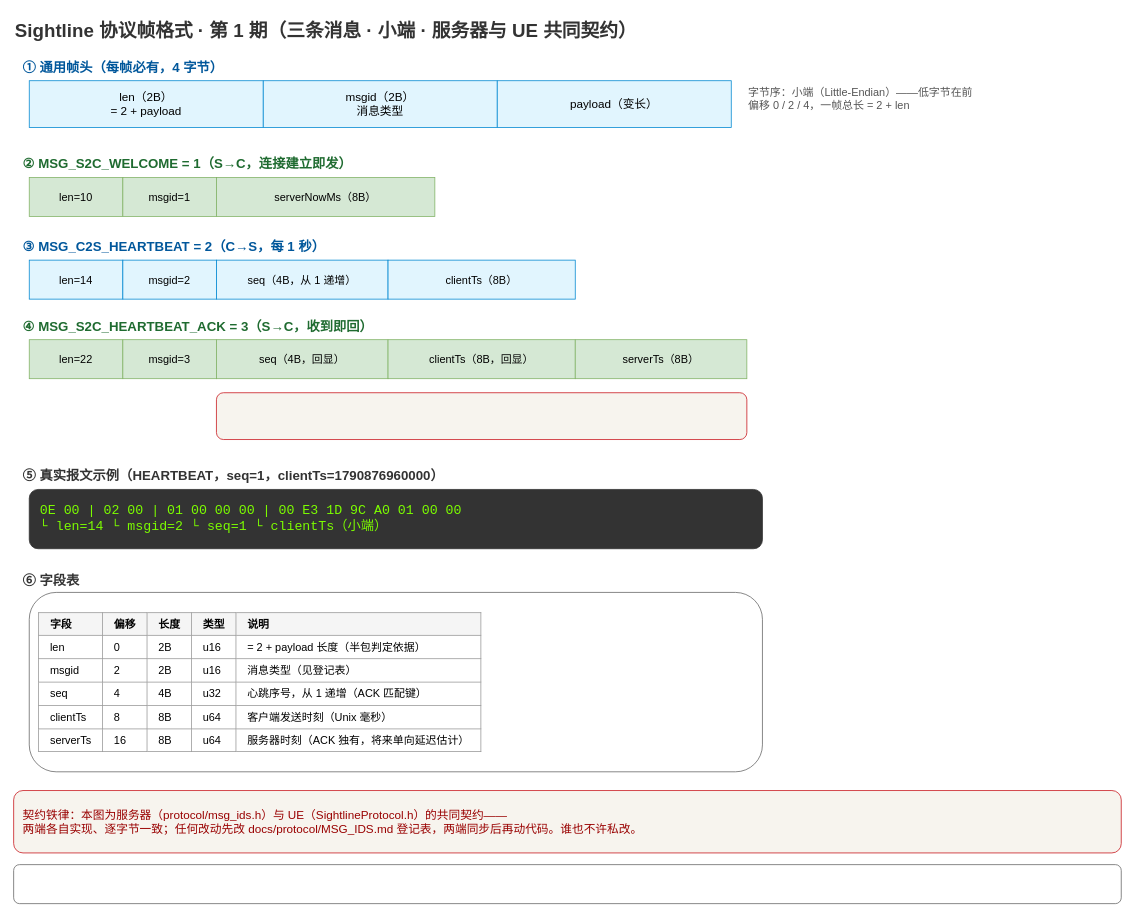
The diagram is 1135 pixels wide and 917 high, and some of its shapes have lost their labels. The shapes that lost their labels are listed below. From the top down, each one's centre as x and y in pixels, then its label:
At point 481,416: "UE 侧规则：ACK.seq 与发送记录匹配 → ping = 收到时刻 − clientTs 匹配不上（过期/未知）→ 忽略".
At point 567,884: "色标：绿 = 服务器下发（S→C） 蓝 = 客户端上行（C→S） 黑底绿字 = 真实字节示例 米白 = 契约说明".
